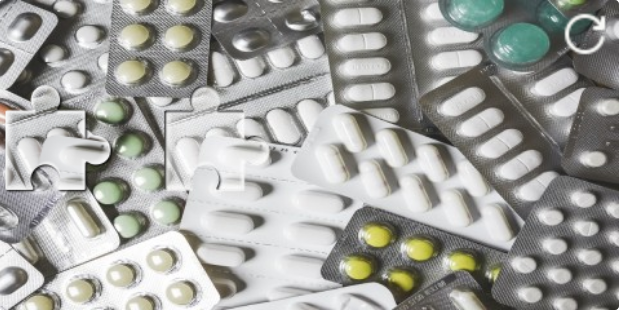target: (165, 86, 269, 194)
